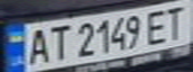1: (93, 16, 112, 54)
2: (72, 19, 96, 58)
4: (109, 14, 130, 52)
9: (124, 11, 148, 50)
A: (21, 25, 54, 65)
E: (142, 7, 172, 45)
T: (160, 2, 193, 40), (45, 23, 72, 62)
